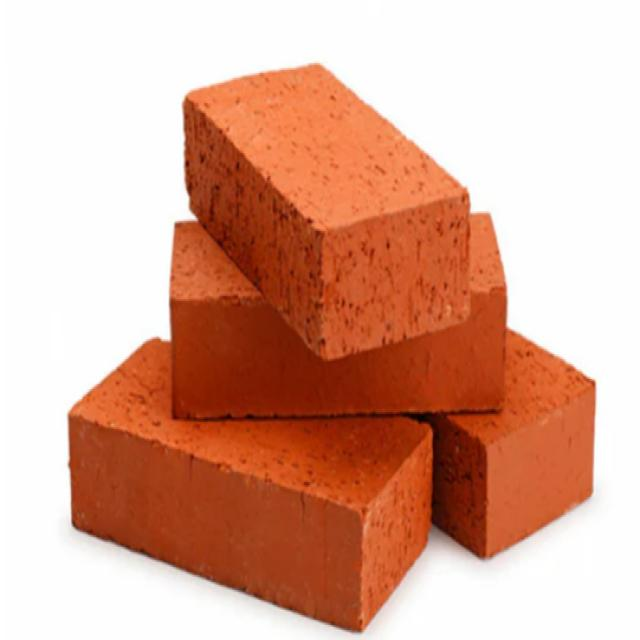bricks: (67, 334, 433, 634), (183, 62, 472, 359), (167, 211, 506, 421), (430, 325, 595, 562)
